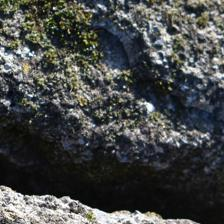Crack: (4, 56, 192, 168)
